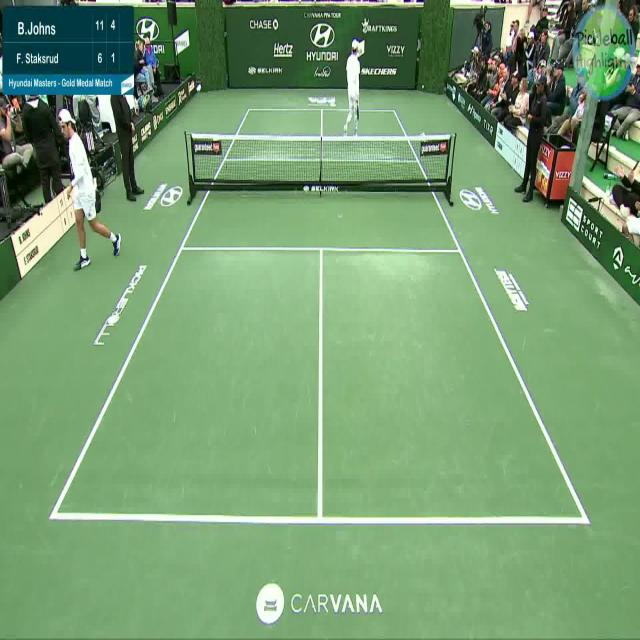ball: (418, 78, 428, 95)
